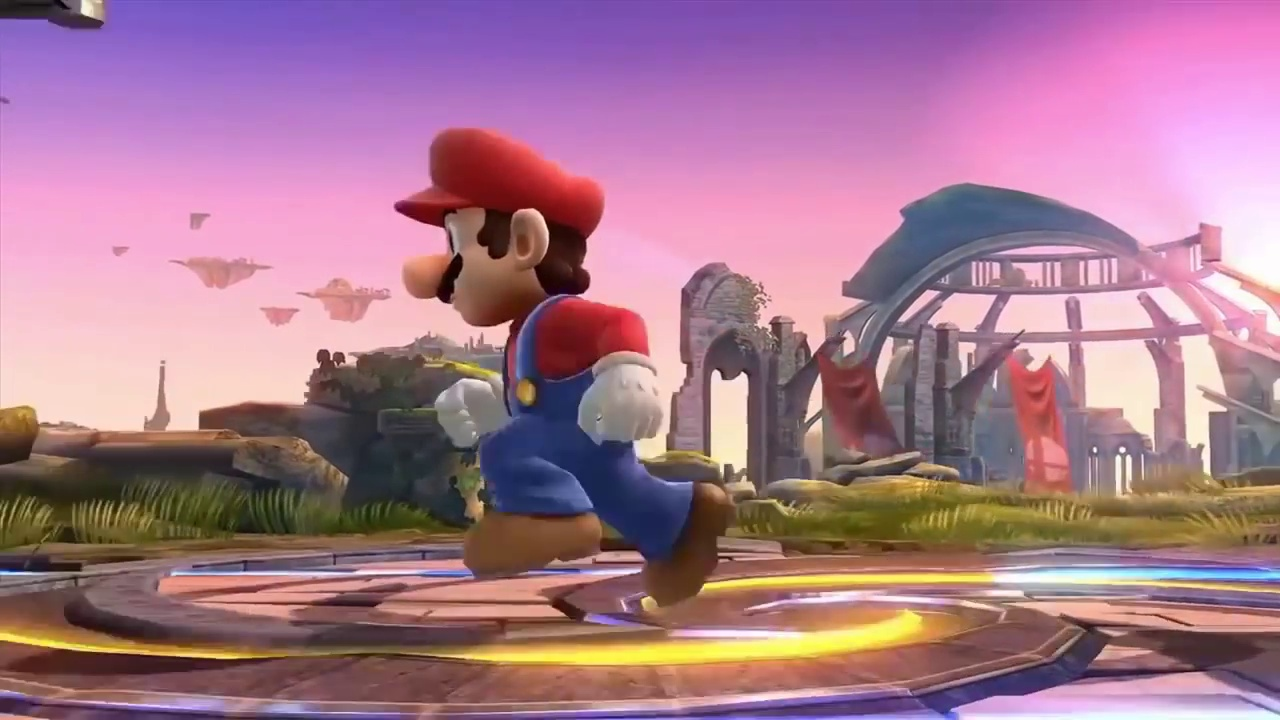Mario: (392, 125, 734, 612)
